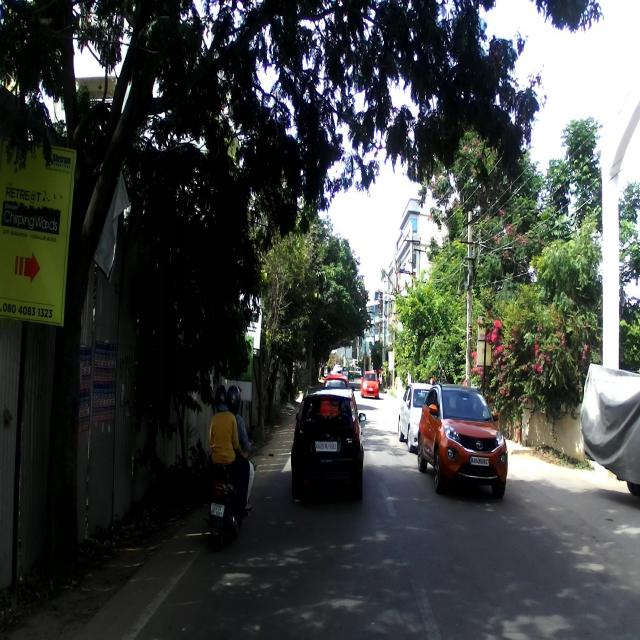car: (416, 384, 508, 501), (291, 387, 368, 502), (360, 370, 381, 400)
scooter: (207, 432, 256, 550)
